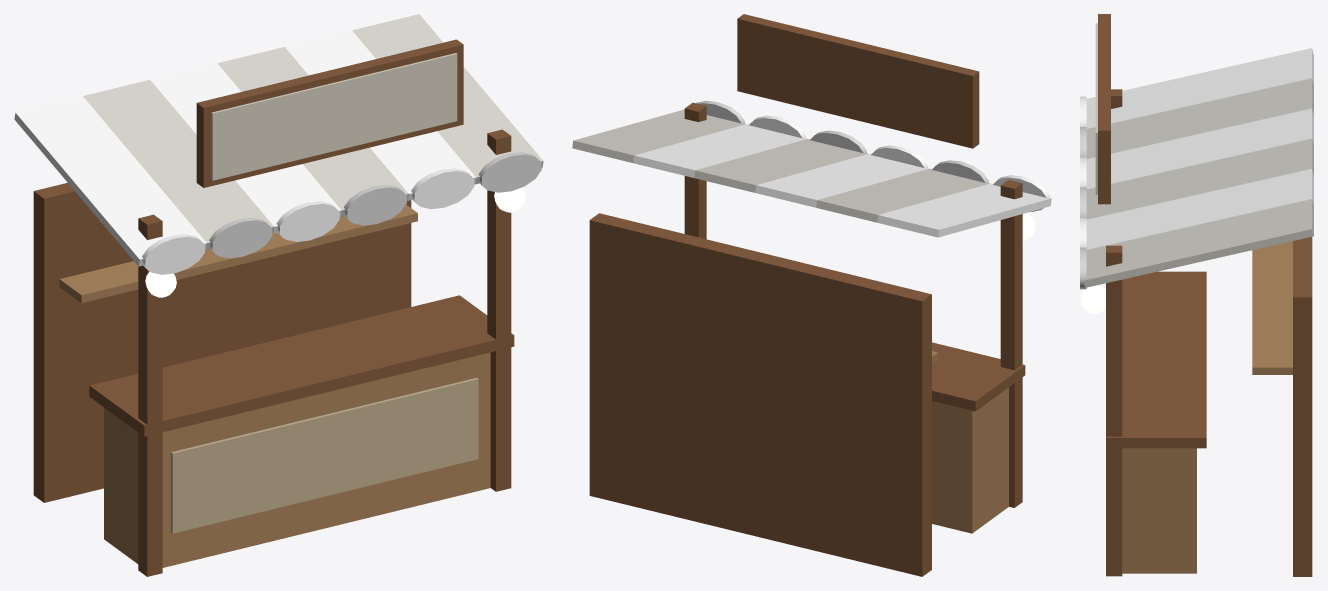
File: prop_market_stall_ph.glb
The picture shows the model from 3 angles, left to right: view 1: azimuth 30°, elevation 25°; view 2: azimuth 150°, elevation 25°; view 3: azimuth 270°, elevation 25°; orthographic projection. The views are drawn at different scales.
Parts seen in each view (by area): view 1: prop_market_stall; view 2: prop_market_stall; view 3: prop_market_stall.
Boxes of the visible parts, bbox=[...] form: prop_market_stall: bbox=[14, 14, 543, 576]; prop_market_stall: bbox=[572, 14, 1051, 576]; prop_market_stall: bbox=[1080, 14, 1313, 576].
Bounding box in the file's own units: 2.64 × 2.87 × 1.44.
